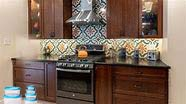copymove: (118, 46, 129, 59)
removal: (15, 36, 34, 60)
spliced: (3, 84, 36, 104)
